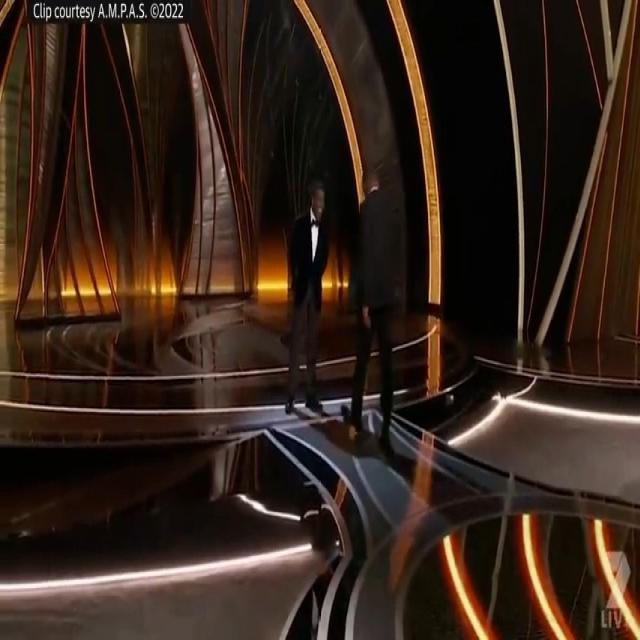non-fight: (266, 148, 416, 458)
